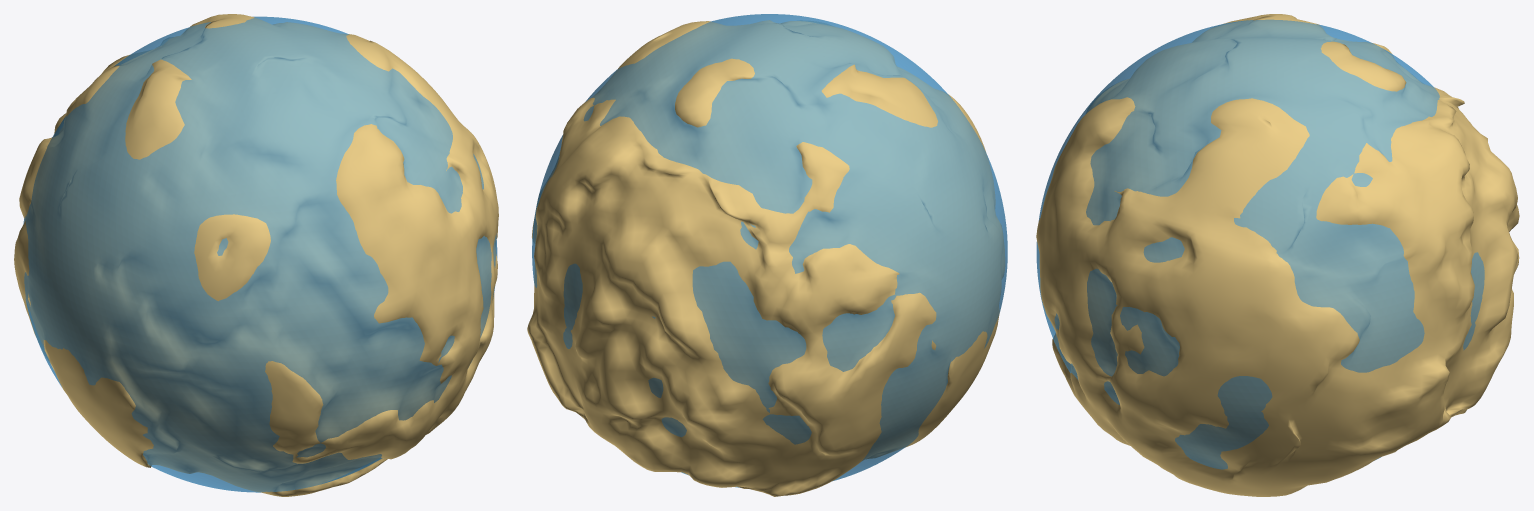
File: Planet2.glb
3 views of the same model, side by side, from view 1: azimuth 30°, elevation 25°; view 2: azimuth 150°, elevation 25°; view 3: azimuth 270°, elevation 25° (orthographic). The views are drawn at different scales.
Parts seen in each view (by area): view 1: Cube, Cube.001; view 2: Cube, Cube.001; view 3: Cube, Cube.001.
Part boxes in pixels (left/top/right/bottom): Cube: left=14, top=14, right=498, bottom=496; Cube.001: left=23, top=16, right=497, bottom=492; Cube: left=527, top=20, right=1004, bottom=496; Cube.001: left=532, top=14, right=1007, bottom=487; Cube: left=1036, top=14, right=1519, bottom=496; Cube.001: left=1036, top=19, right=1484, bottom=469.
Size of the model in its own units: 10.08 by 10.09 by 10.36.
